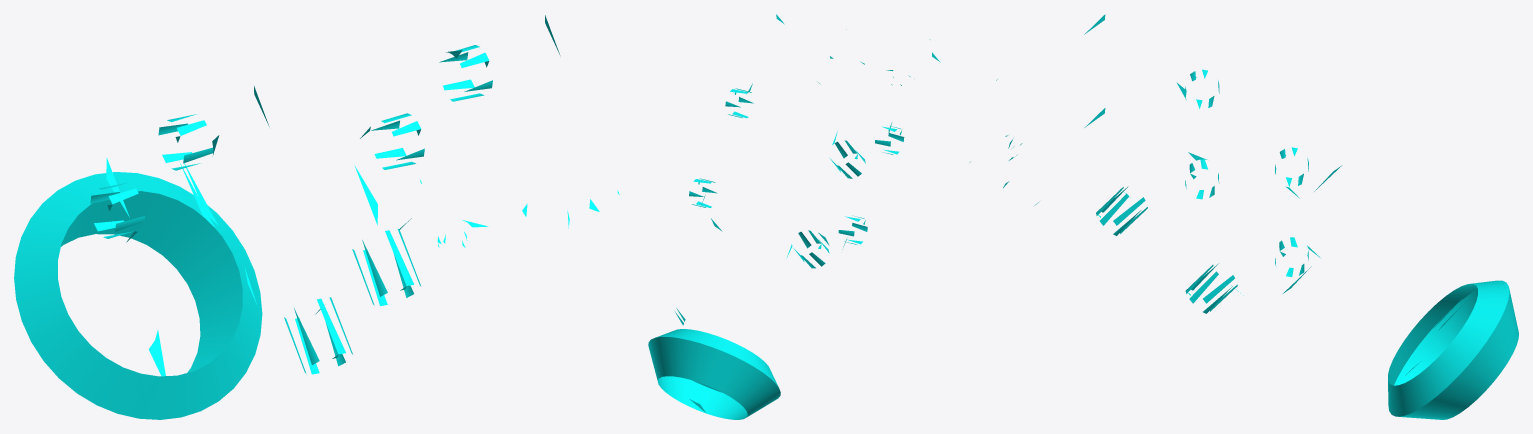
The model's file is F266820012936_003_antrieb_Rep.dae.
3 renders of one model, left to right at view 1: azimuth 30°, elevation 25°; view 2: azimuth 150°, elevation 25°; view 3: azimuth 270°, elevation 25°, orthographic. The views are drawn at different scales.
Parts seen in each view (by area): view 1: F266820012936_003_antrieb; view 2: F266820012936_003_antrieb; view 3: F266820012936_003_antrieb.
Boxes of the visible parts, x1,y1,x2,y2 form: F266820012936_003_antrieb: [14, 15, 619, 419]; F266820012936_003_antrieb: [648, 14, 940, 419]; F266820012936_003_antrieb: [969, 14, 1518, 419].
Bounding box in the file's own units: 138 × 323 × 228.
